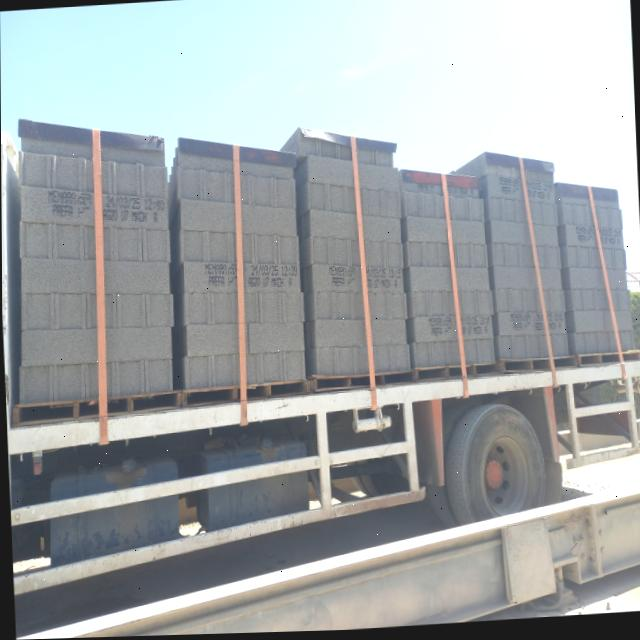bricks: (18, 119, 367, 402), (354, 138, 635, 371)
